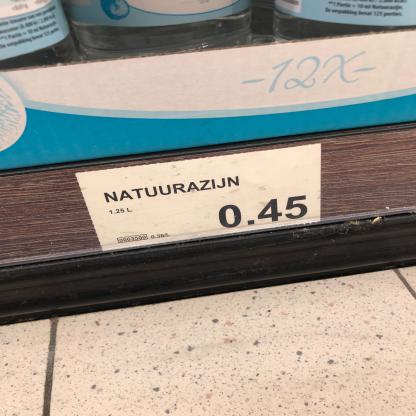prtg: (77, 145, 322, 252)
